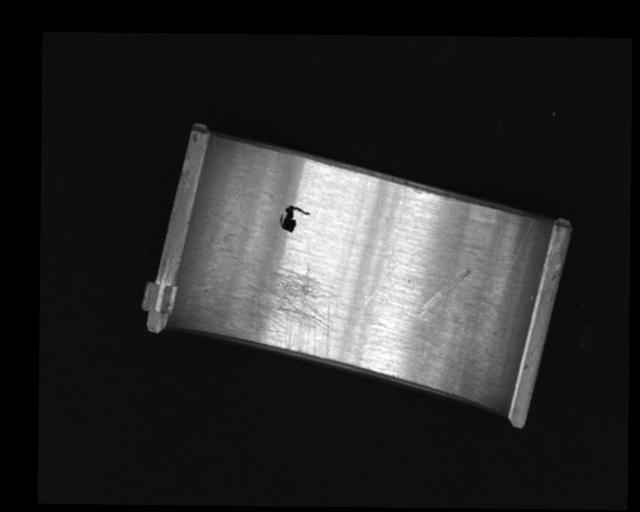blot: (279, 204, 310, 232)
nick: (361, 183, 408, 307), (488, 215, 535, 307), (418, 268, 471, 315), (415, 304, 429, 369)
scratch: (210, 265, 341, 356)
